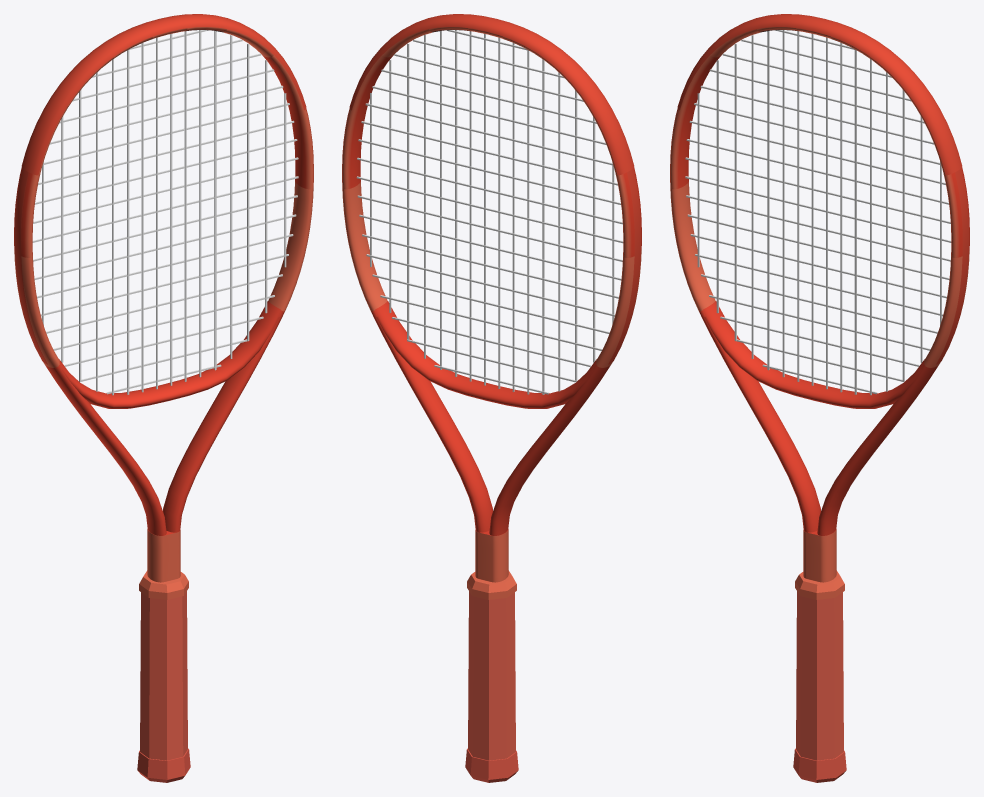
The model's file is head-radical-junior-26-2025.glb.
The picture shows the model from 3 angles, left to right: view 1: azimuth 30°, elevation 25°; view 2: azimuth 150°, elevation 25°; view 3: azimuth 330°, elevation 25°; orthographic projection.
Parts seen in each view (by area): view 1: frame, strings_mains, strings_crosses, grip, bumper, grommets, butt_cap, collar; view 2: frame, strings_mains, strings_crosses, grip, bumper, grommets, butt_cap, collar; view 3: frame, strings_mains, strings_crosses, grip, bumper, grommets, butt_cap, collar.
Part boxes in pixels (bbox=[...]): frame: bbox=[14, 27, 313, 582]; strings_mains: bbox=[42, 30, 286, 395]; strings_crosses: bbox=[32, 30, 298, 394]; grip: bbox=[140, 591, 187, 760]; bumper: bbox=[21, 14, 306, 175]; grommets: bbox=[14, 168, 47, 364]; butt_cap: bbox=[137, 748, 190, 782]; collar: bbox=[139, 570, 188, 599]; frame: bbox=[342, 27, 641, 582]; strings_mains: bbox=[370, 30, 614, 394]; strings_crosses: bbox=[356, 30, 623, 394]; grip: bbox=[468, 591, 515, 760]; bumper: bbox=[349, 14, 634, 175]; grommets: bbox=[608, 168, 641, 364]; butt_cap: bbox=[465, 748, 518, 782]; collar: bbox=[467, 570, 516, 599]; frame: bbox=[670, 27, 969, 582]; strings_mains: bbox=[697, 30, 941, 395]; strings_crosses: bbox=[685, 30, 951, 394]; grip: bbox=[796, 591, 843, 760]; bumper: bbox=[677, 14, 962, 175]; grommets: bbox=[936, 168, 969, 364]; butt_cap: bbox=[793, 748, 846, 782]; collar: bbox=[795, 570, 844, 599].
Bounding box in the file's own units: 0.2696 × 0.6607 × 0.0396.
